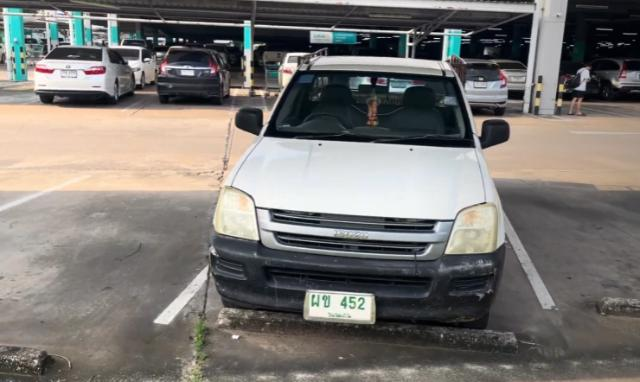pickup-truck: (207, 54, 513, 336)
